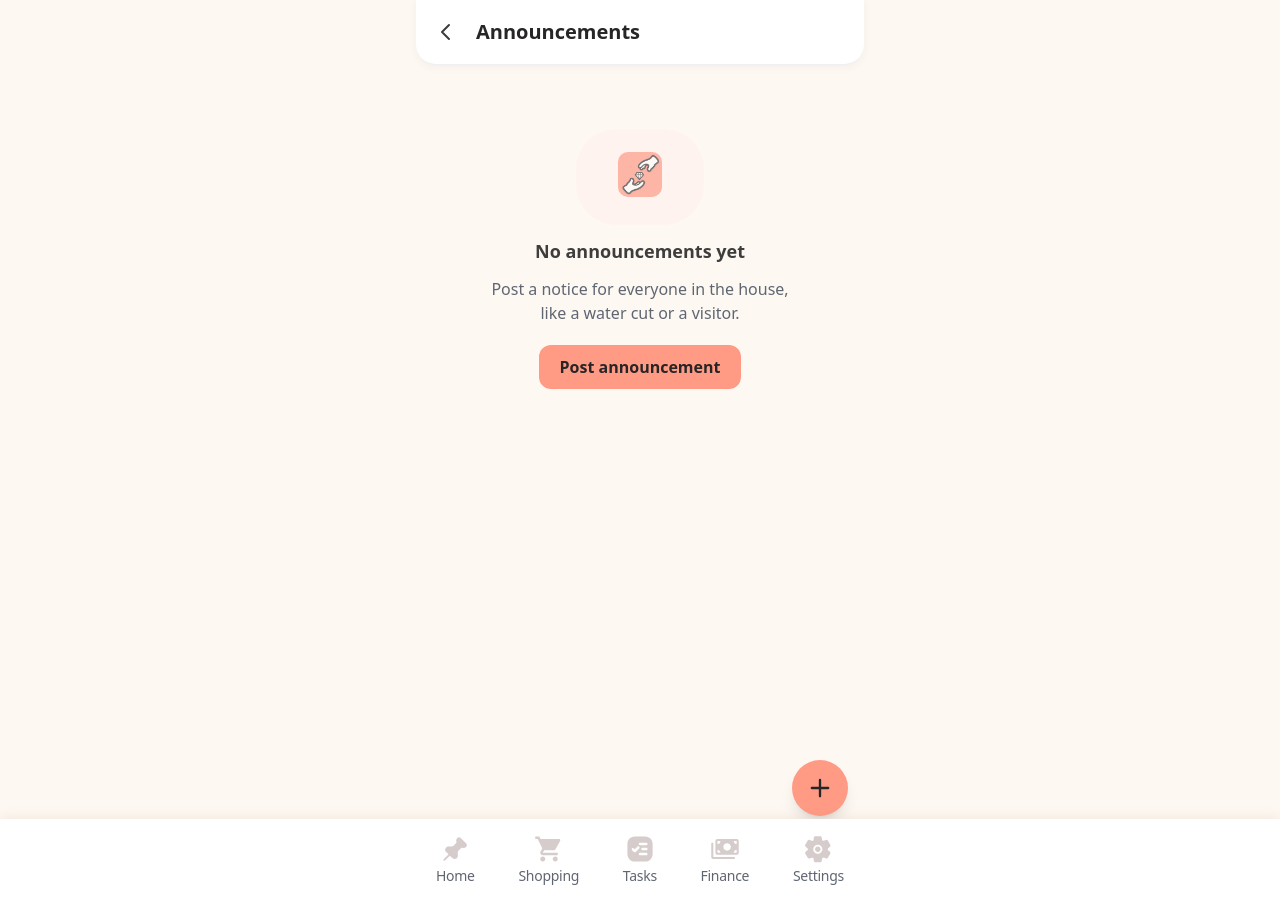
Test: posting › Post is disabled with a reason until there is a title and a message, then posts as me
The image size is (1280, 900).
Click the button named "Post announcement" at (820, 788), box [792,760,848,816]
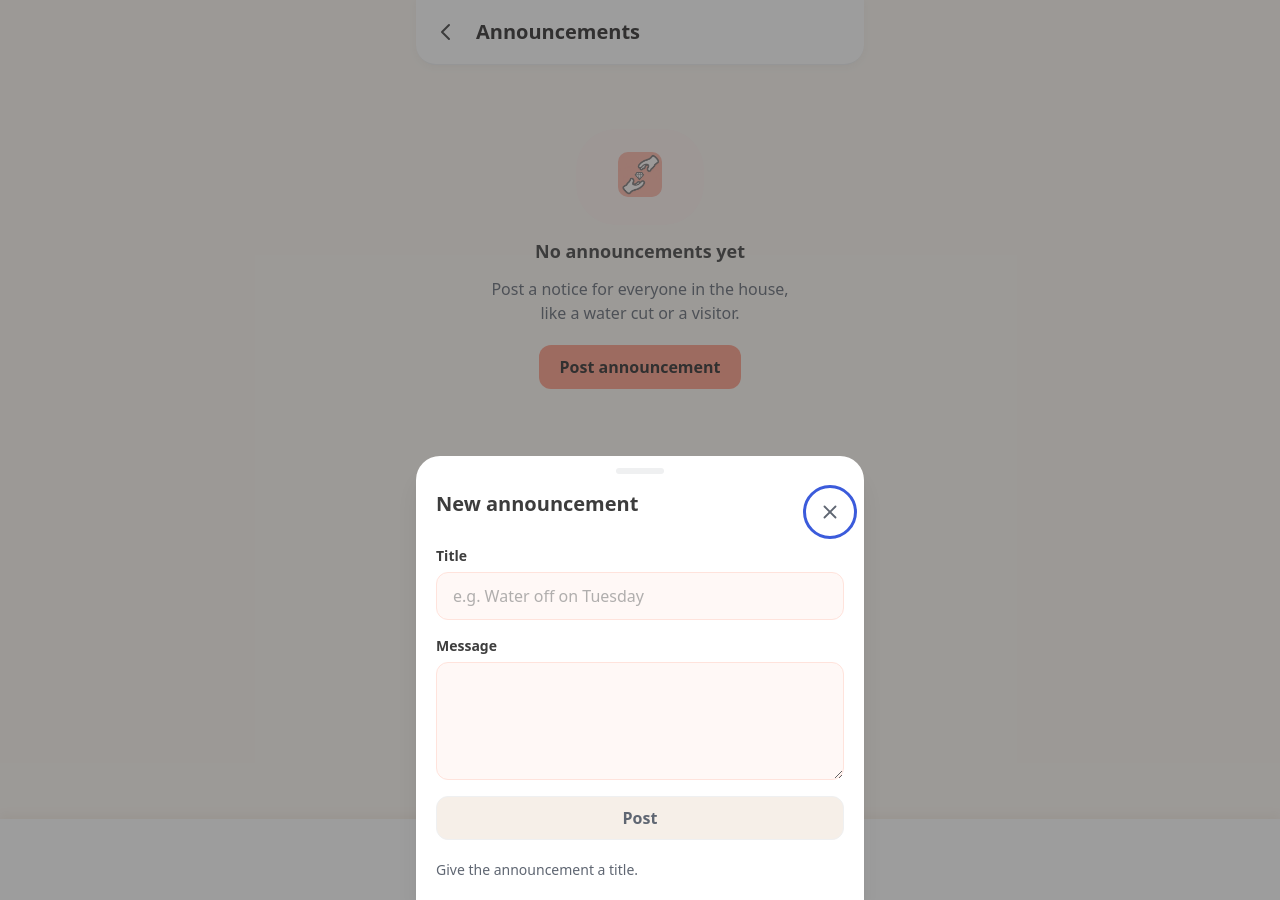
Type "  Party Saturday " into the field labelled "Title" at (640, 596), box [436,572,844,620]
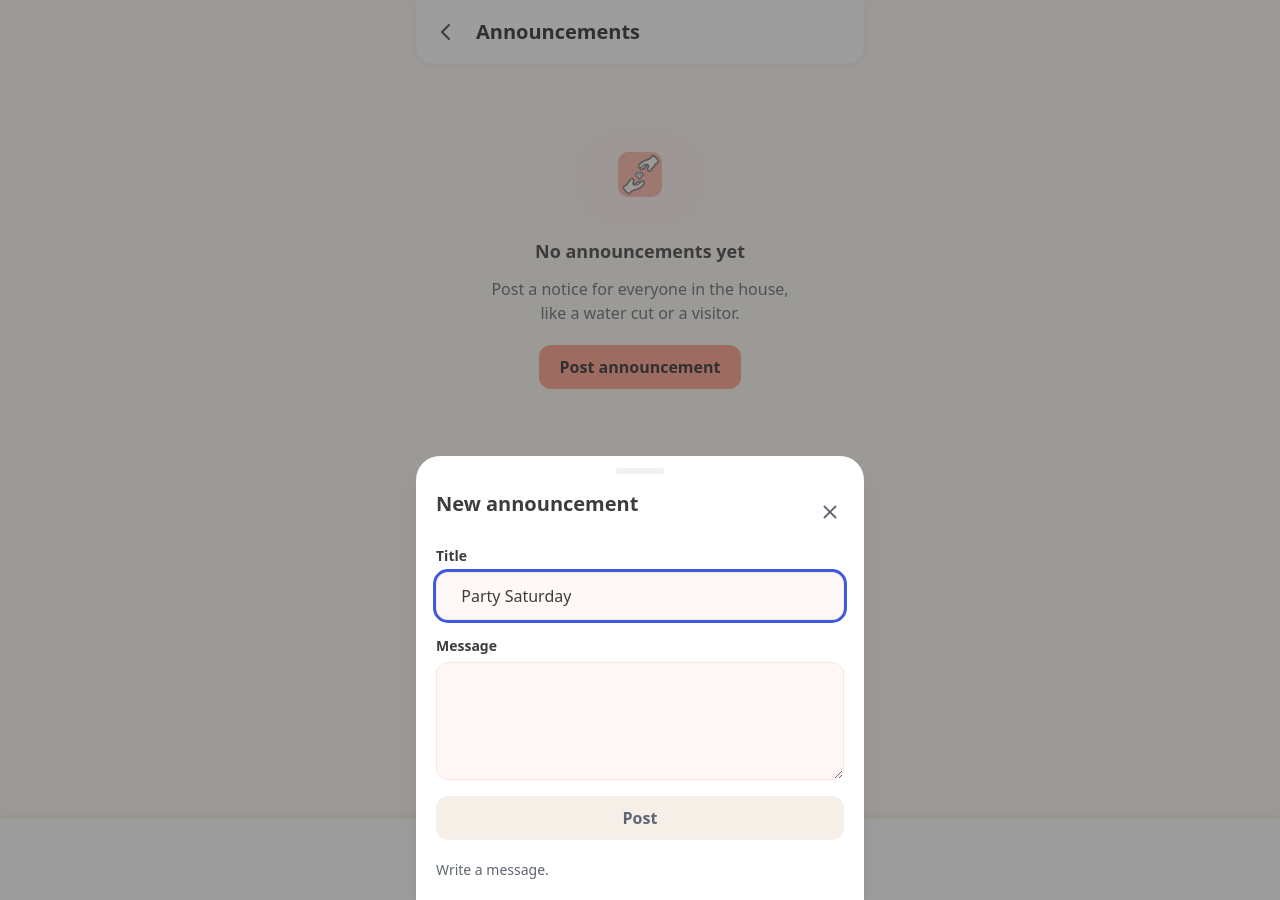
Type "Friends coming over." into the text box labelled "Message" at (640, 721), box [436,662,844,780]
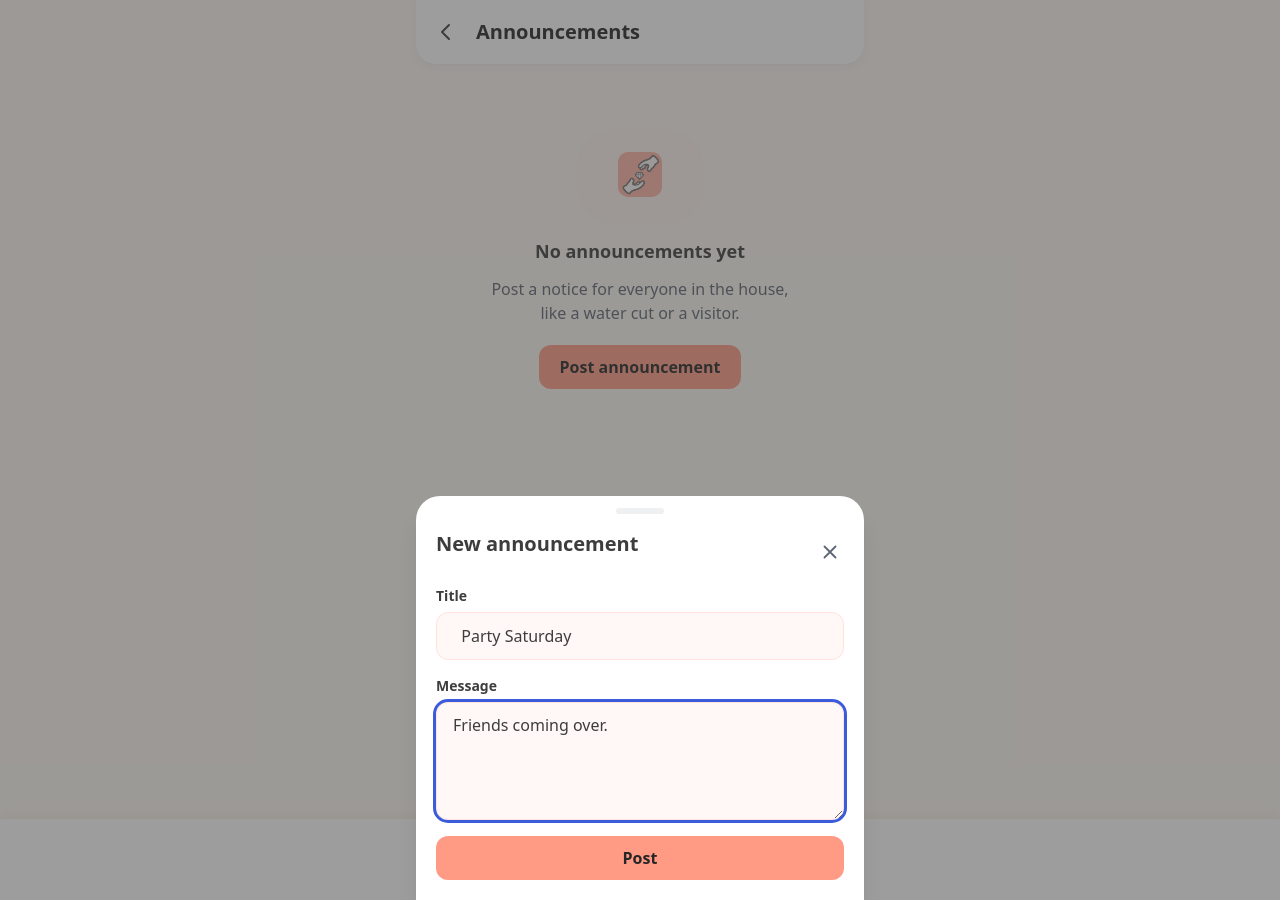
Click the button "Post" at (640, 858), box [436,836,844,880]
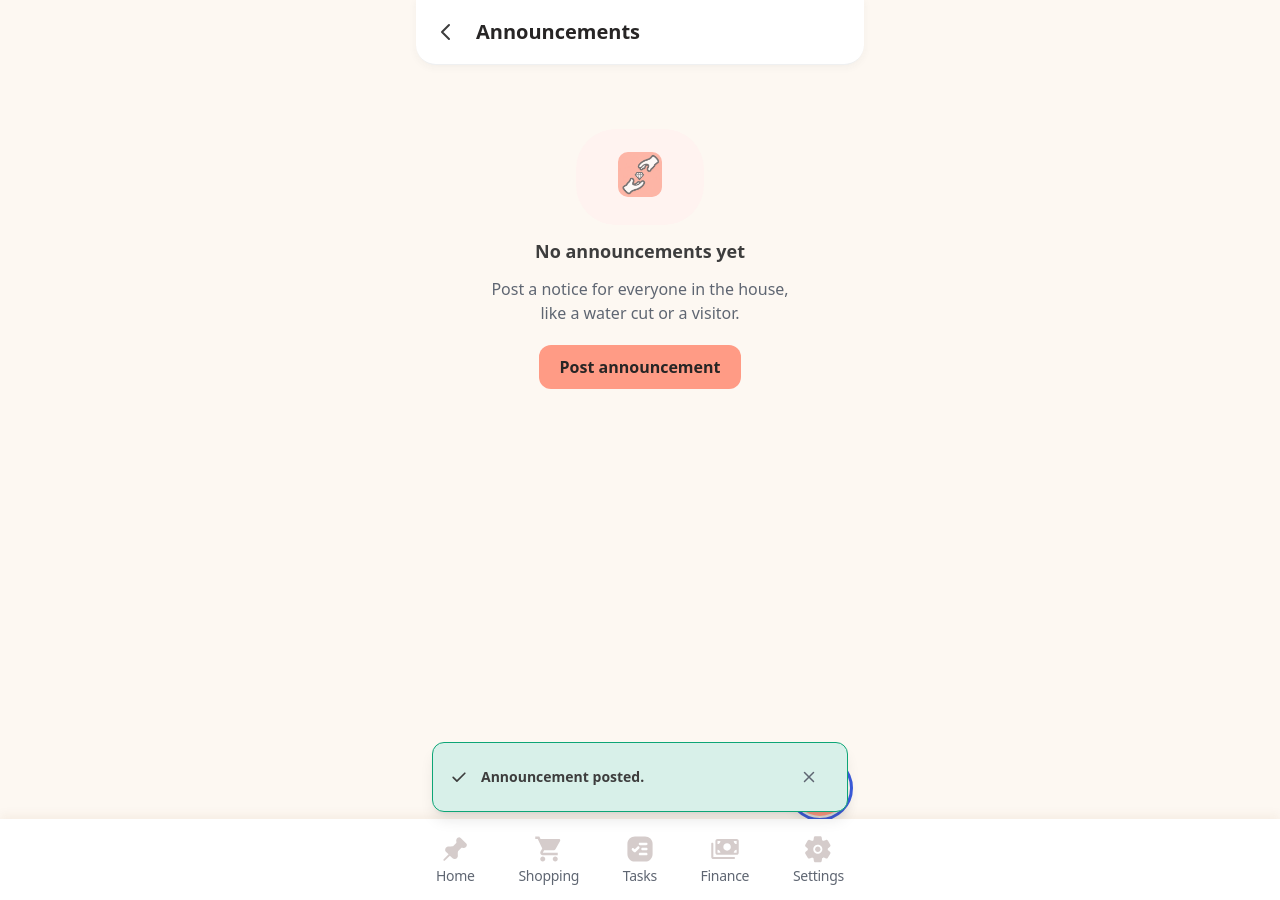
Result: the text "Announcement posted." is shown at [481,767,644,786]
